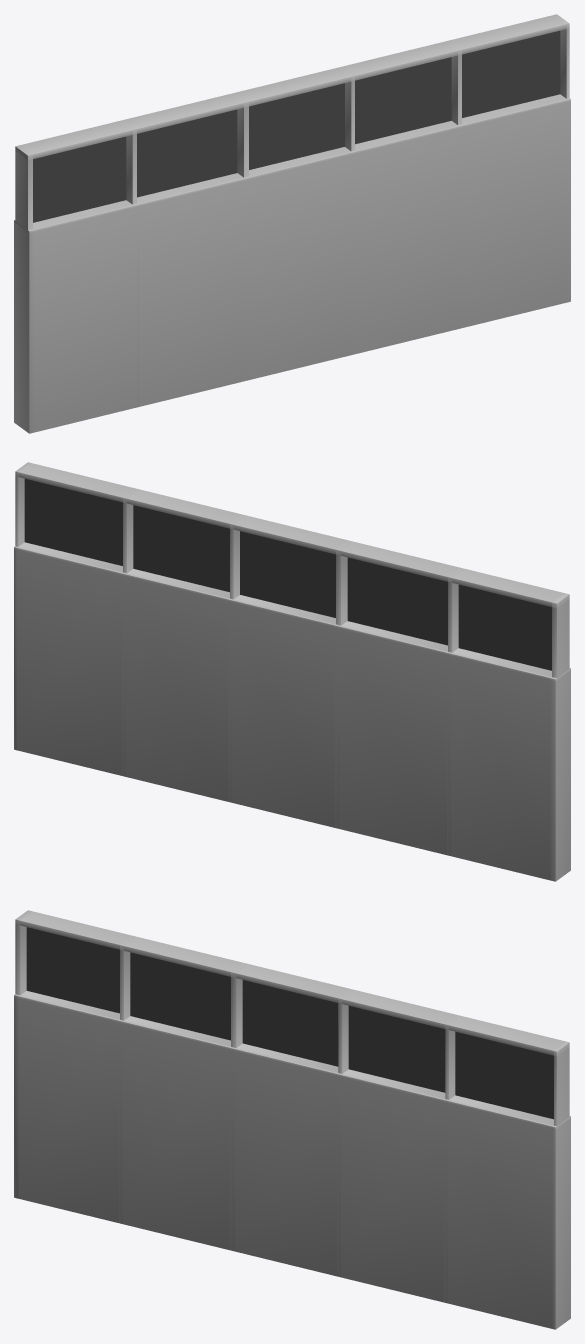
File: LC_3014_CafeWall_LOD3.FBX
3 views of the same model, one above another, from view 1: azimuth 30°, elevation 25°; view 2: azimuth 150°, elevation 25°; view 3: azimuth 330°, elevation 25° (orthographic).
Parts seen in each view (by area): view 1: LC_3014_CafeWall_LOD3; view 2: LC_3014_CafeWall_LOD3; view 3: LC_3014_CafeWall_LOD3.
Boxes of the visible parts, x1,y1,x2,y2 form: LC_3014_CafeWall_LOD3: [14, 14, 570, 433]; LC_3014_CafeWall_LOD3: [14, 462, 570, 881]; LC_3014_CafeWall_LOD3: [14, 910, 570, 1329].
Bounding box in the file's own units: 203 × 99.51 × 10.
